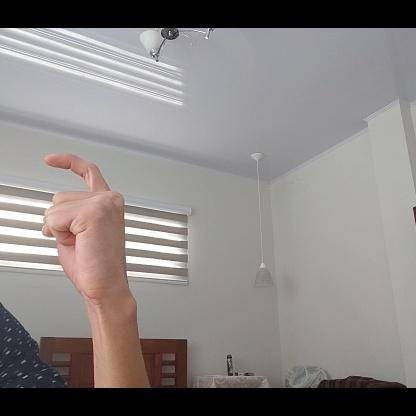X: (41, 145, 133, 323)
